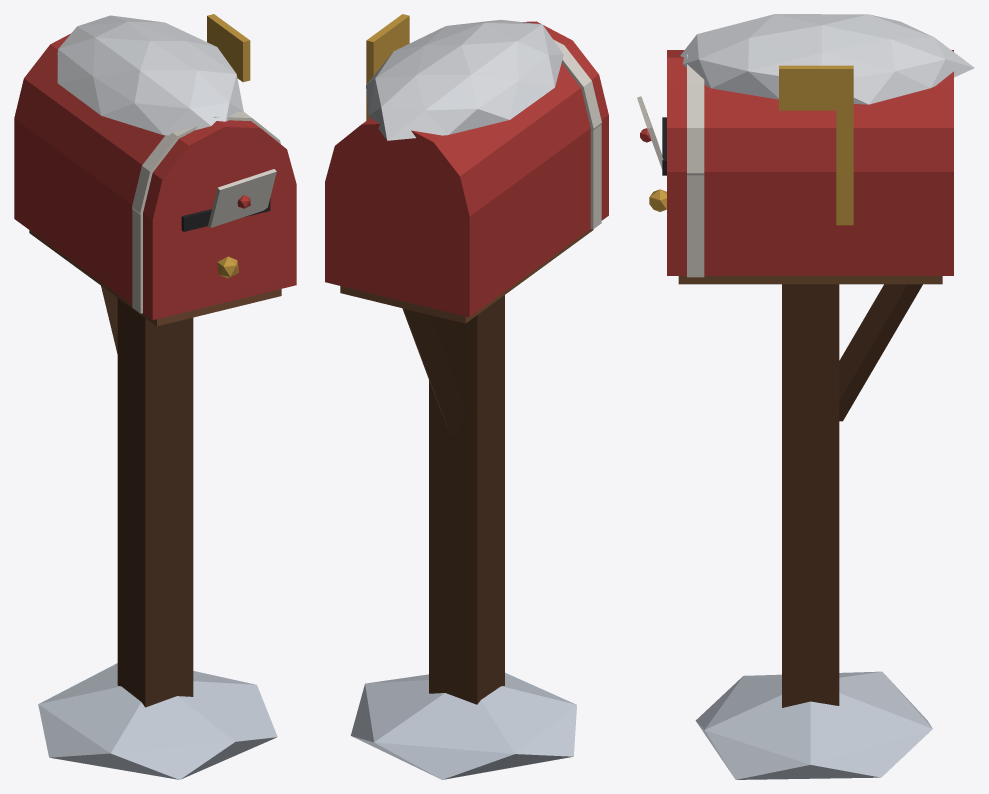
Rendered from santa-mailbox.glb.
3 renders of one model, left to right at view 1: azimuth 30°, elevation 25°; view 2: azimuth 150°, elevation 25°; view 3: azimuth 270°, elevation 25°, orthographic. The views are drawn at different scales.
Parts seen in each view (by area): view 1: santa-mailbox; view 2: santa-mailbox; view 3: santa-mailbox.
Part boxes in pixels (x1,y1,x2,y2): santa-mailbox: (14, 14, 296, 779); santa-mailbox: (325, 14, 608, 779); santa-mailbox: (637, 14, 974, 779).
Bounding box in the file's own units: 0.4331 × 1.37 × 0.5889.
